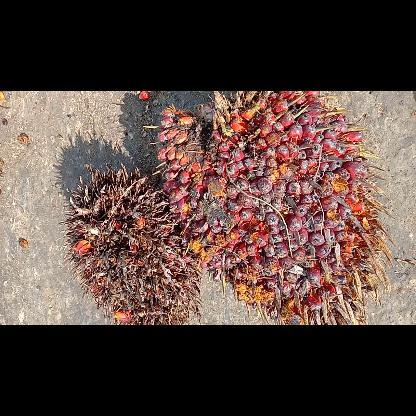TBS masak: (143, 90, 394, 324)
Terlalu masak: (60, 162, 202, 324)
